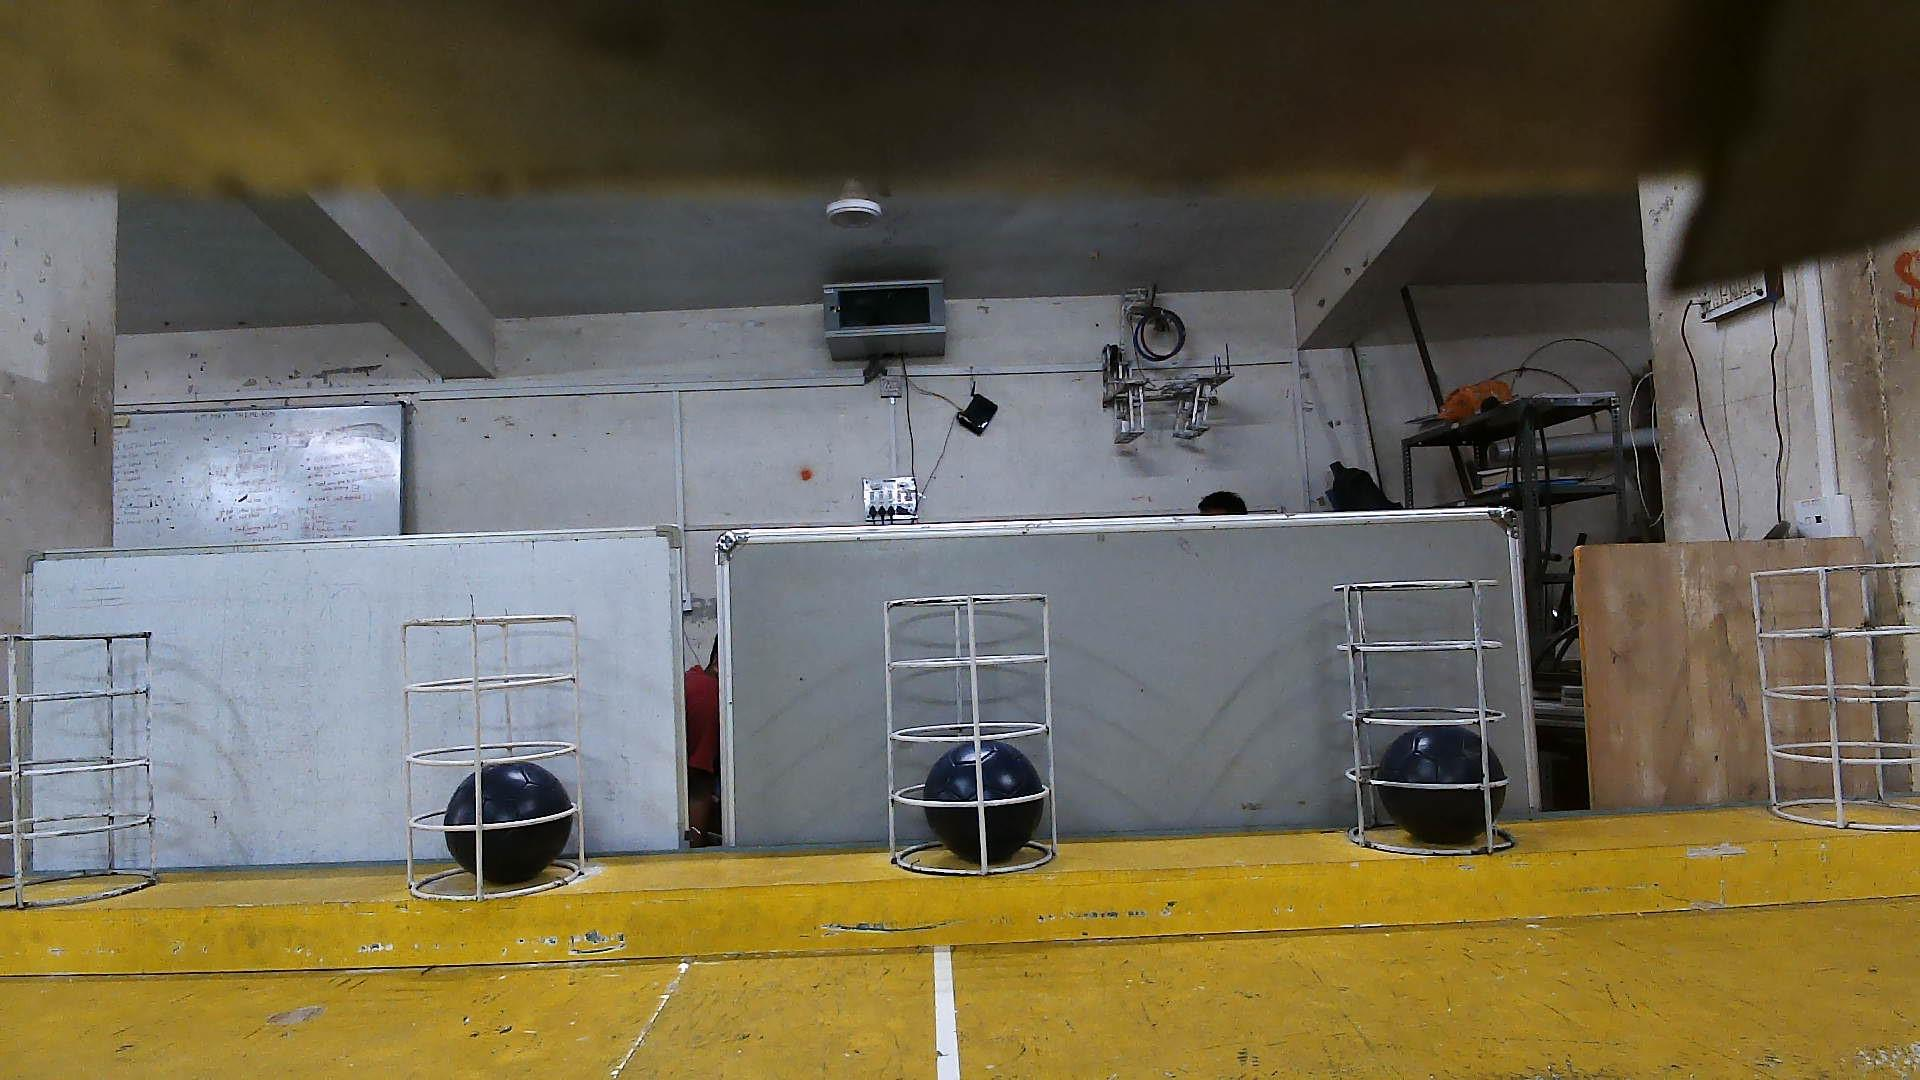dhoka: (1378, 728, 1509, 844), (444, 765, 572, 880), (924, 744, 1040, 858)
